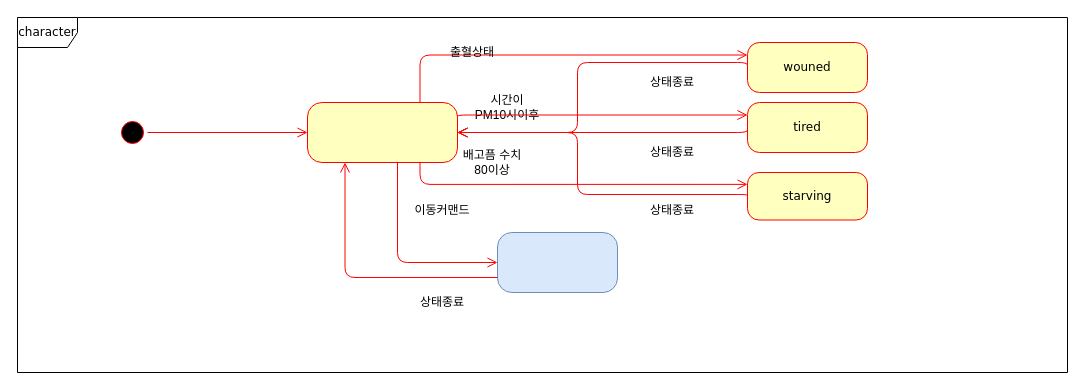
Some shapes in this 1085 by 390 pixel diagram are drawn without their labels. Here are the shapes that lost their labels. From the top down, the box of each, then its label:
(306, 102, 458, 162): Idle (기본)
(496, 232, 618, 292): Move
